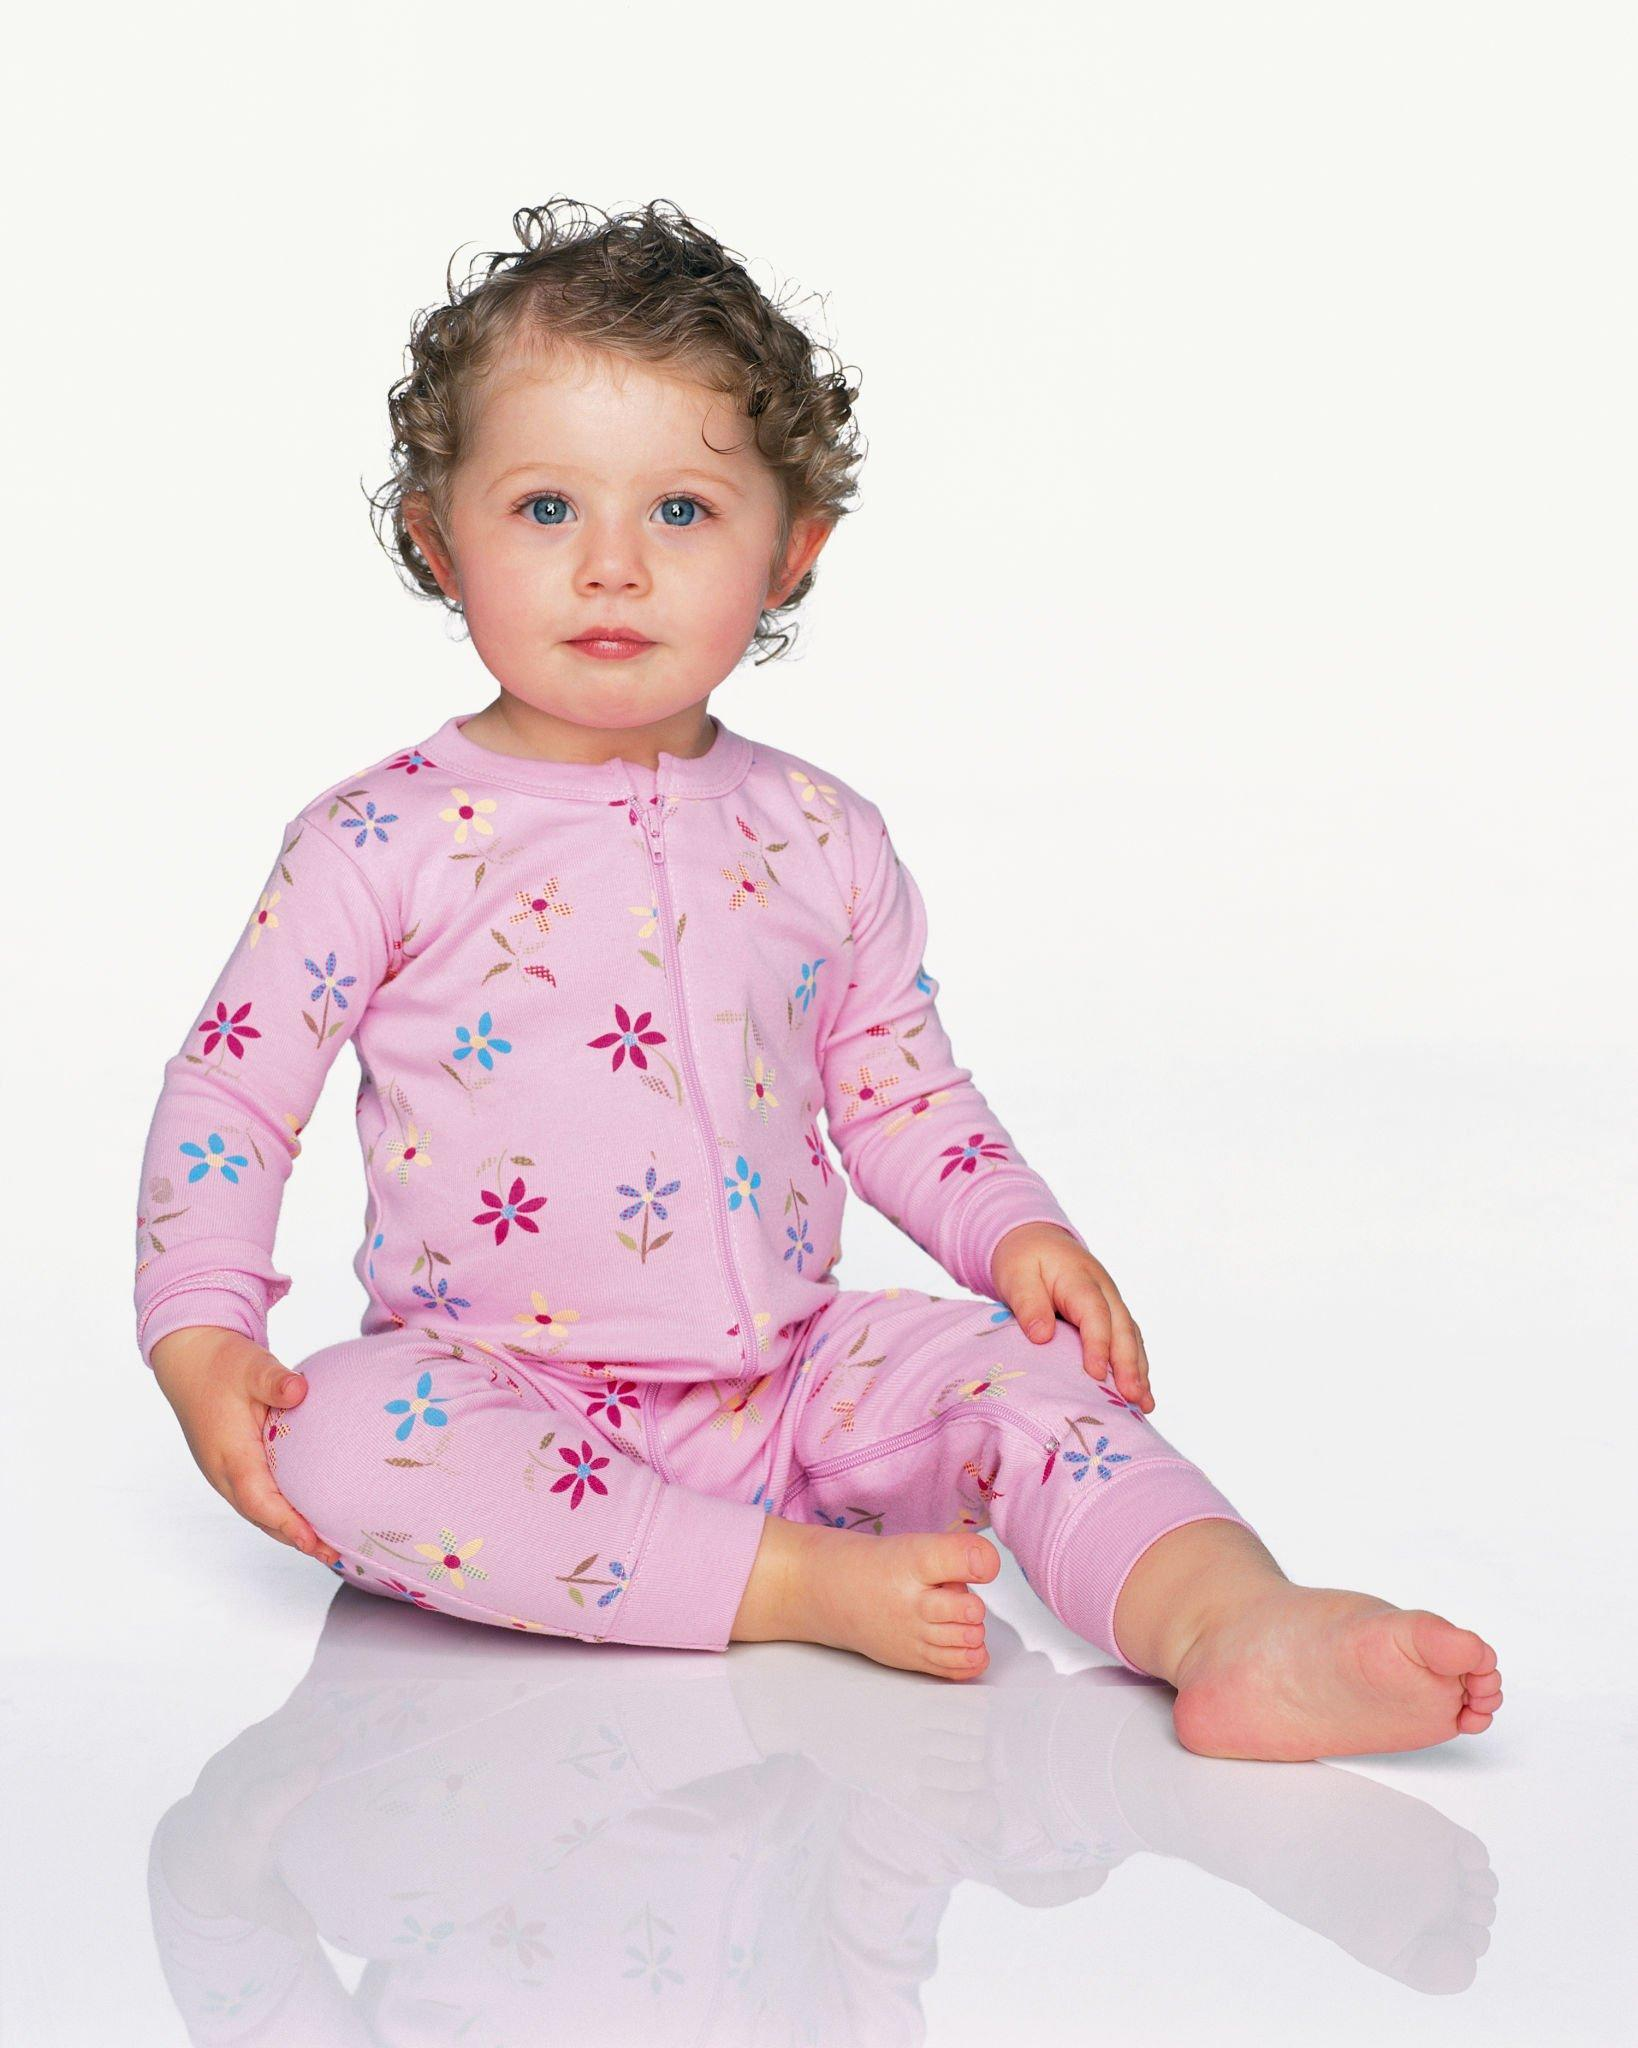Healthy: (356, 242, 871, 772)
